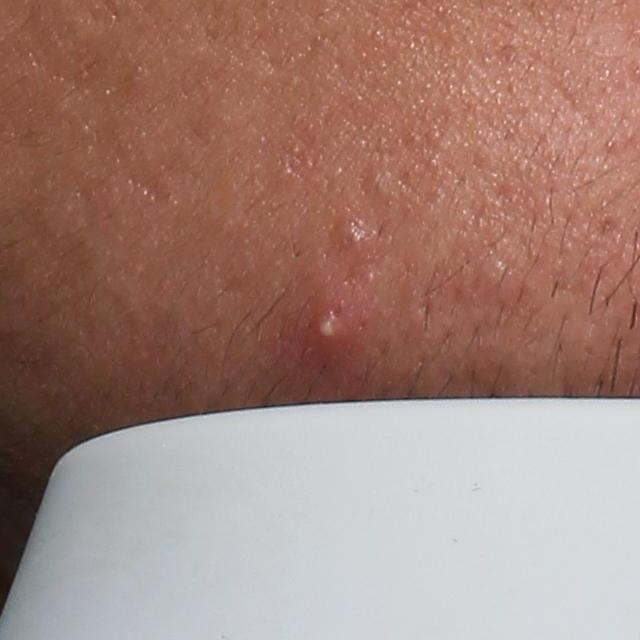papule: (332, 223, 368, 257)
pustule: (278, 263, 372, 385)
